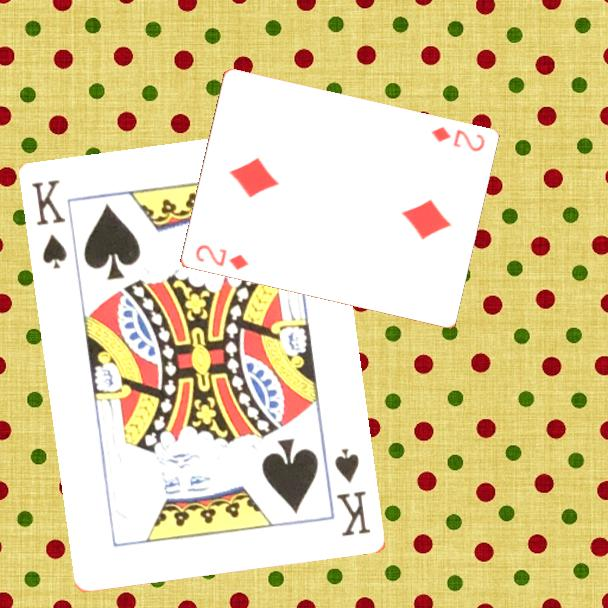d02: (427, 123, 487, 155), (192, 241, 251, 273)
s13: (28, 176, 71, 272), (331, 445, 374, 539)
